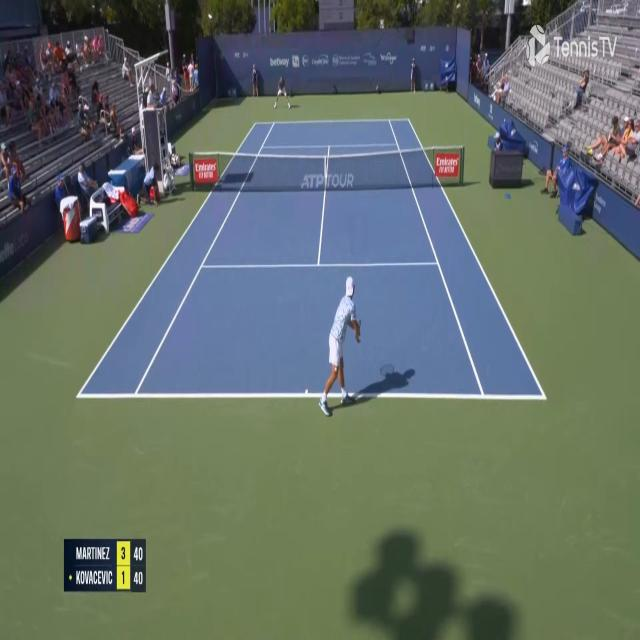tennis-player: (317, 272, 369, 420), (272, 75, 292, 112)
